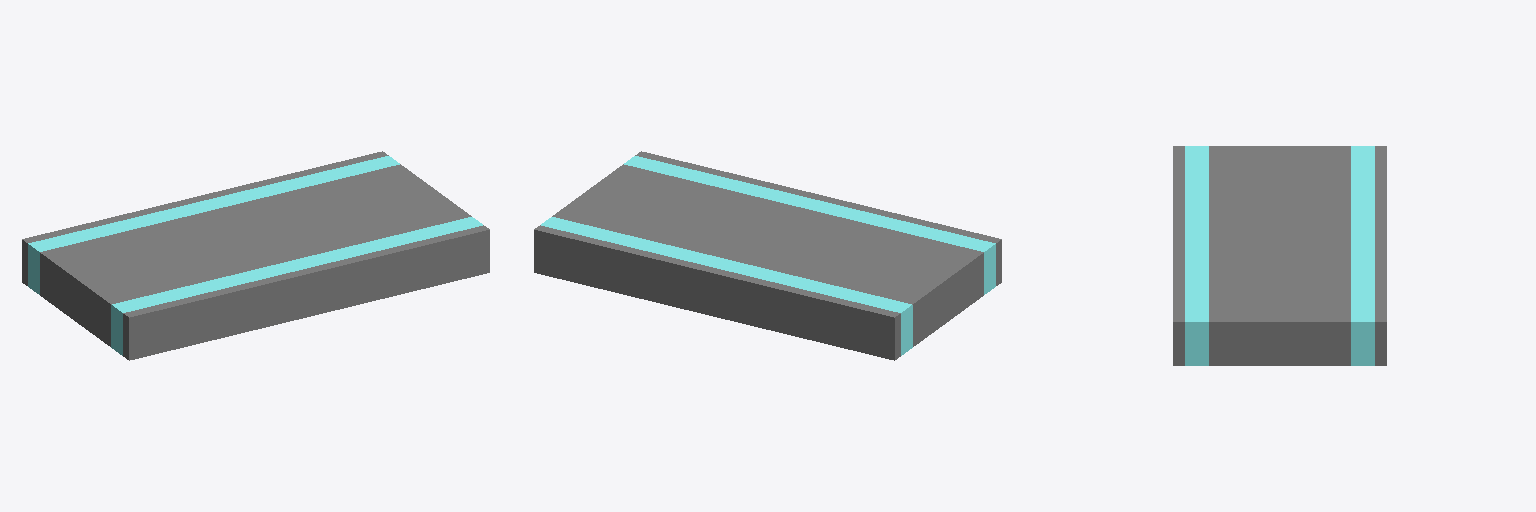
The picture shows the model from 3 angles: view 1: azimuth 30°, elevation 25°; view 2: azimuth 150°, elevation 25°; view 3: azimuth 270°, elevation 25°; orthographic projection.
Parts seen in each view (by area): view 1: object 1; view 2: object 1; view 3: object 1.
Boxes of the visible parts, x1,y1,x2,y2 form: object 1: [22, 151, 489, 360]; object 1: [534, 151, 1001, 360]; object 1: [1173, 146, 1386, 365].
Size of the model in its own units: 3.5 by 0.4 by 1.8.
Materials: 1 (1 with a texture image).